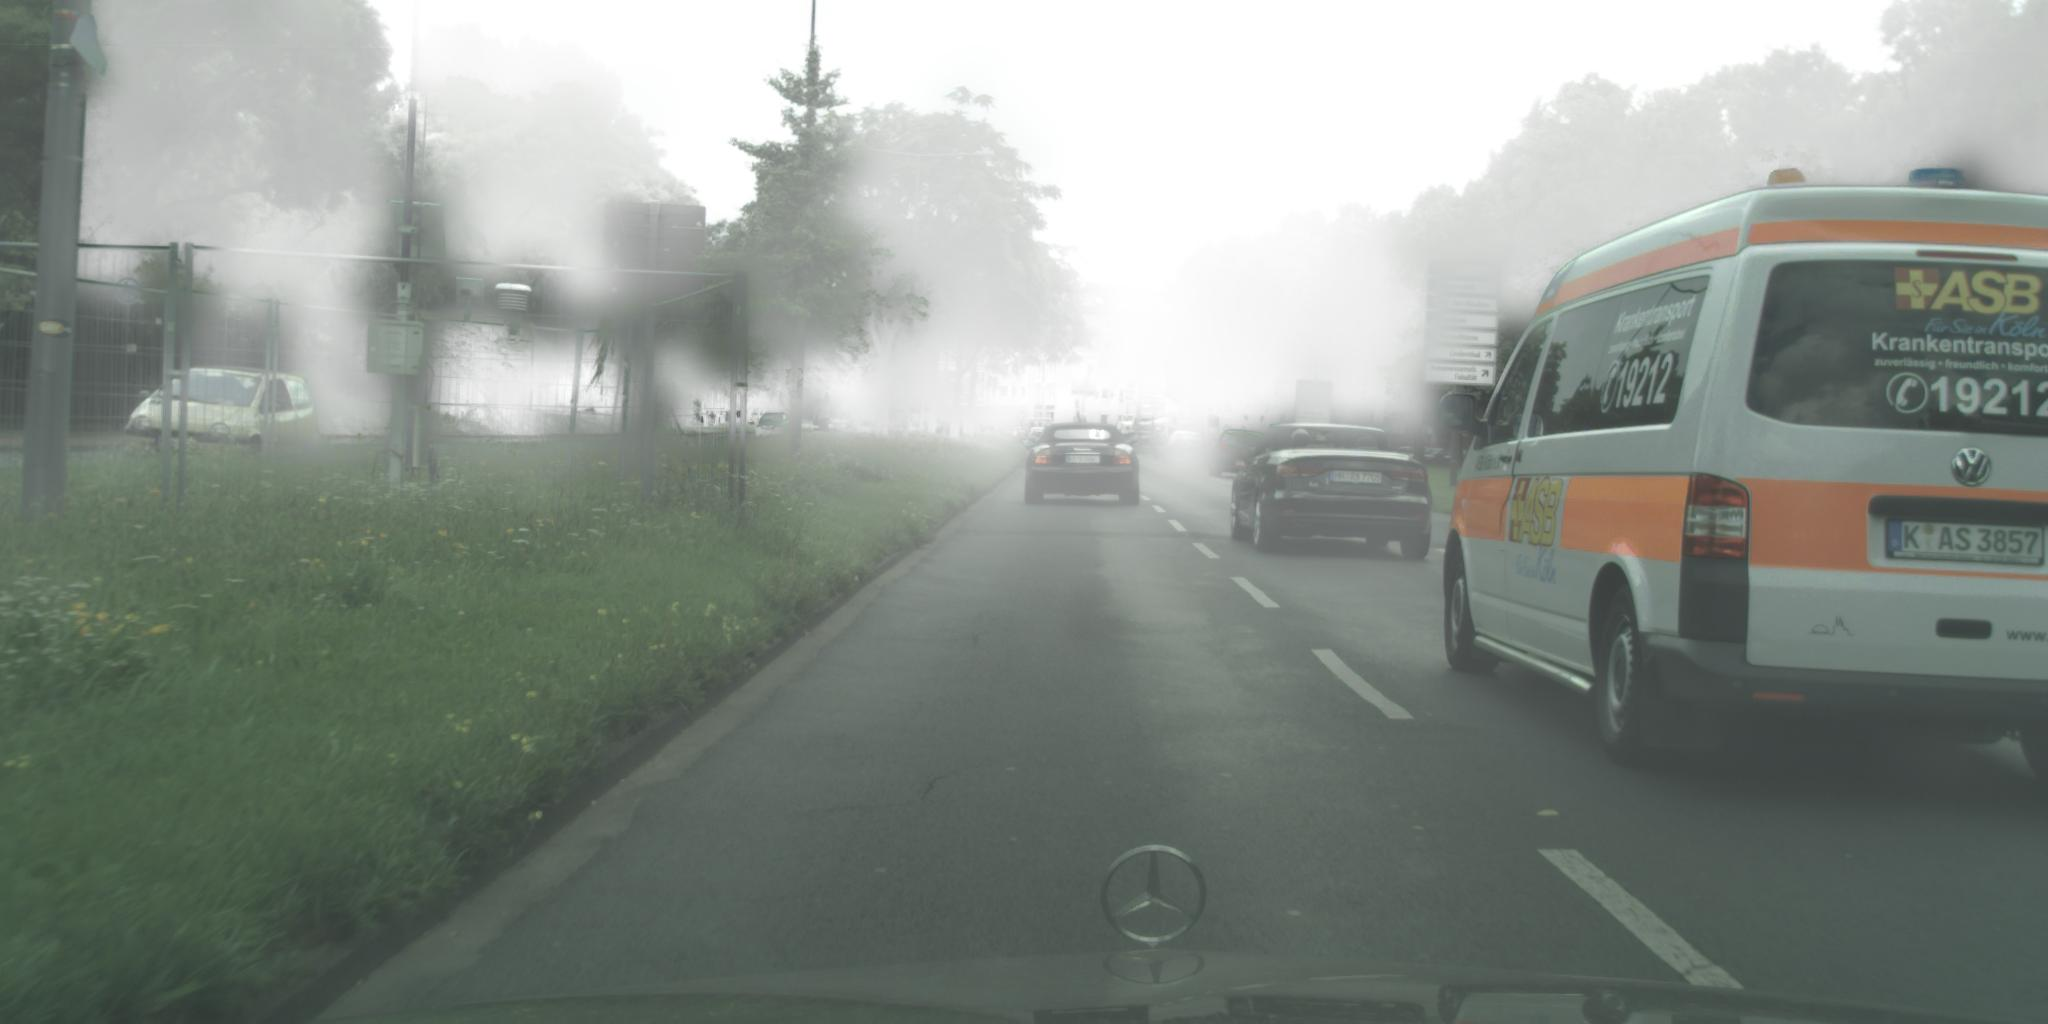car: (1430, 168, 2047, 790), (1228, 421, 1434, 563), (118, 362, 324, 464), (1021, 423, 1143, 508), (1207, 430, 1267, 481), (1151, 426, 1211, 468), (755, 410, 793, 439), (1438, 445, 1475, 468), (1019, 426, 1049, 451), (1394, 445, 1430, 465), (1024, 419, 1055, 441), (974, 422, 1000, 440), (822, 417, 849, 434), (1420, 448, 1448, 464), (844, 421, 876, 434), (795, 417, 820, 432), (1010, 427, 1028, 447)
